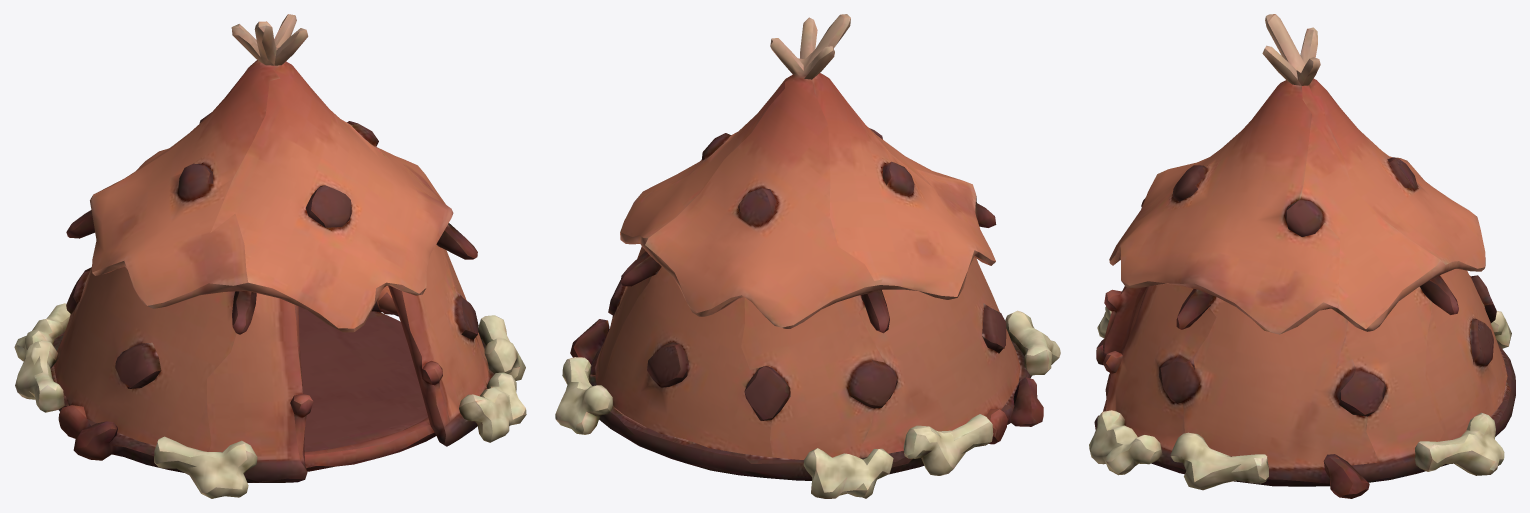
The model's file is a-small-ragged-goblin-tent-made-6fddf1.glb.
The picture shows the model from 3 angles, left to right: view 1: azimuth 30°, elevation 25°; view 2: azimuth 150°, elevation 25°; view 3: azimuth 270°, elevation 25°; orthographic projection. The views are drawn at different scales.
Parts seen in each view (by area): view 1: geometry_0; view 2: geometry_0; view 3: geometry_0.
Boxes of the visible parts, x1,y1,x2,y2 form: geometry_0: (14,14,526,498); geometry_0: (555,14,1060,498); geometry_0: (1089,14,1515,498).
Bounding box in the file's own units: 1 × 0.8777 × 0.8676.
Materials: 1 (1 with a texture image).
